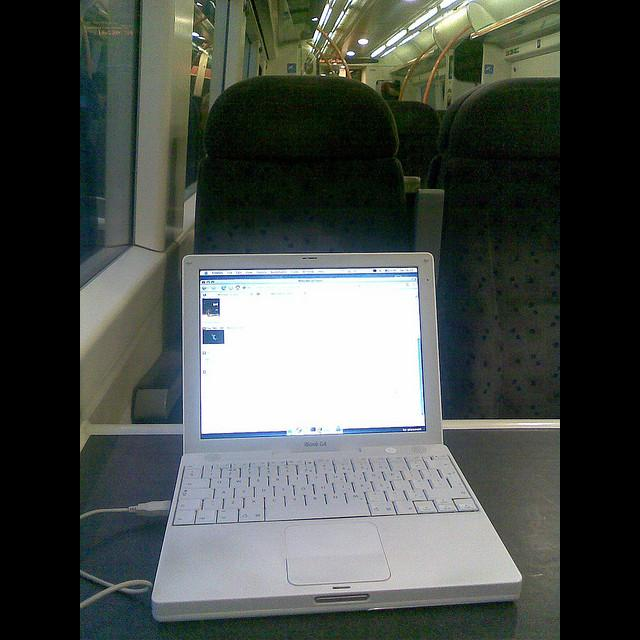Laptop: (148, 252, 523, 623)
